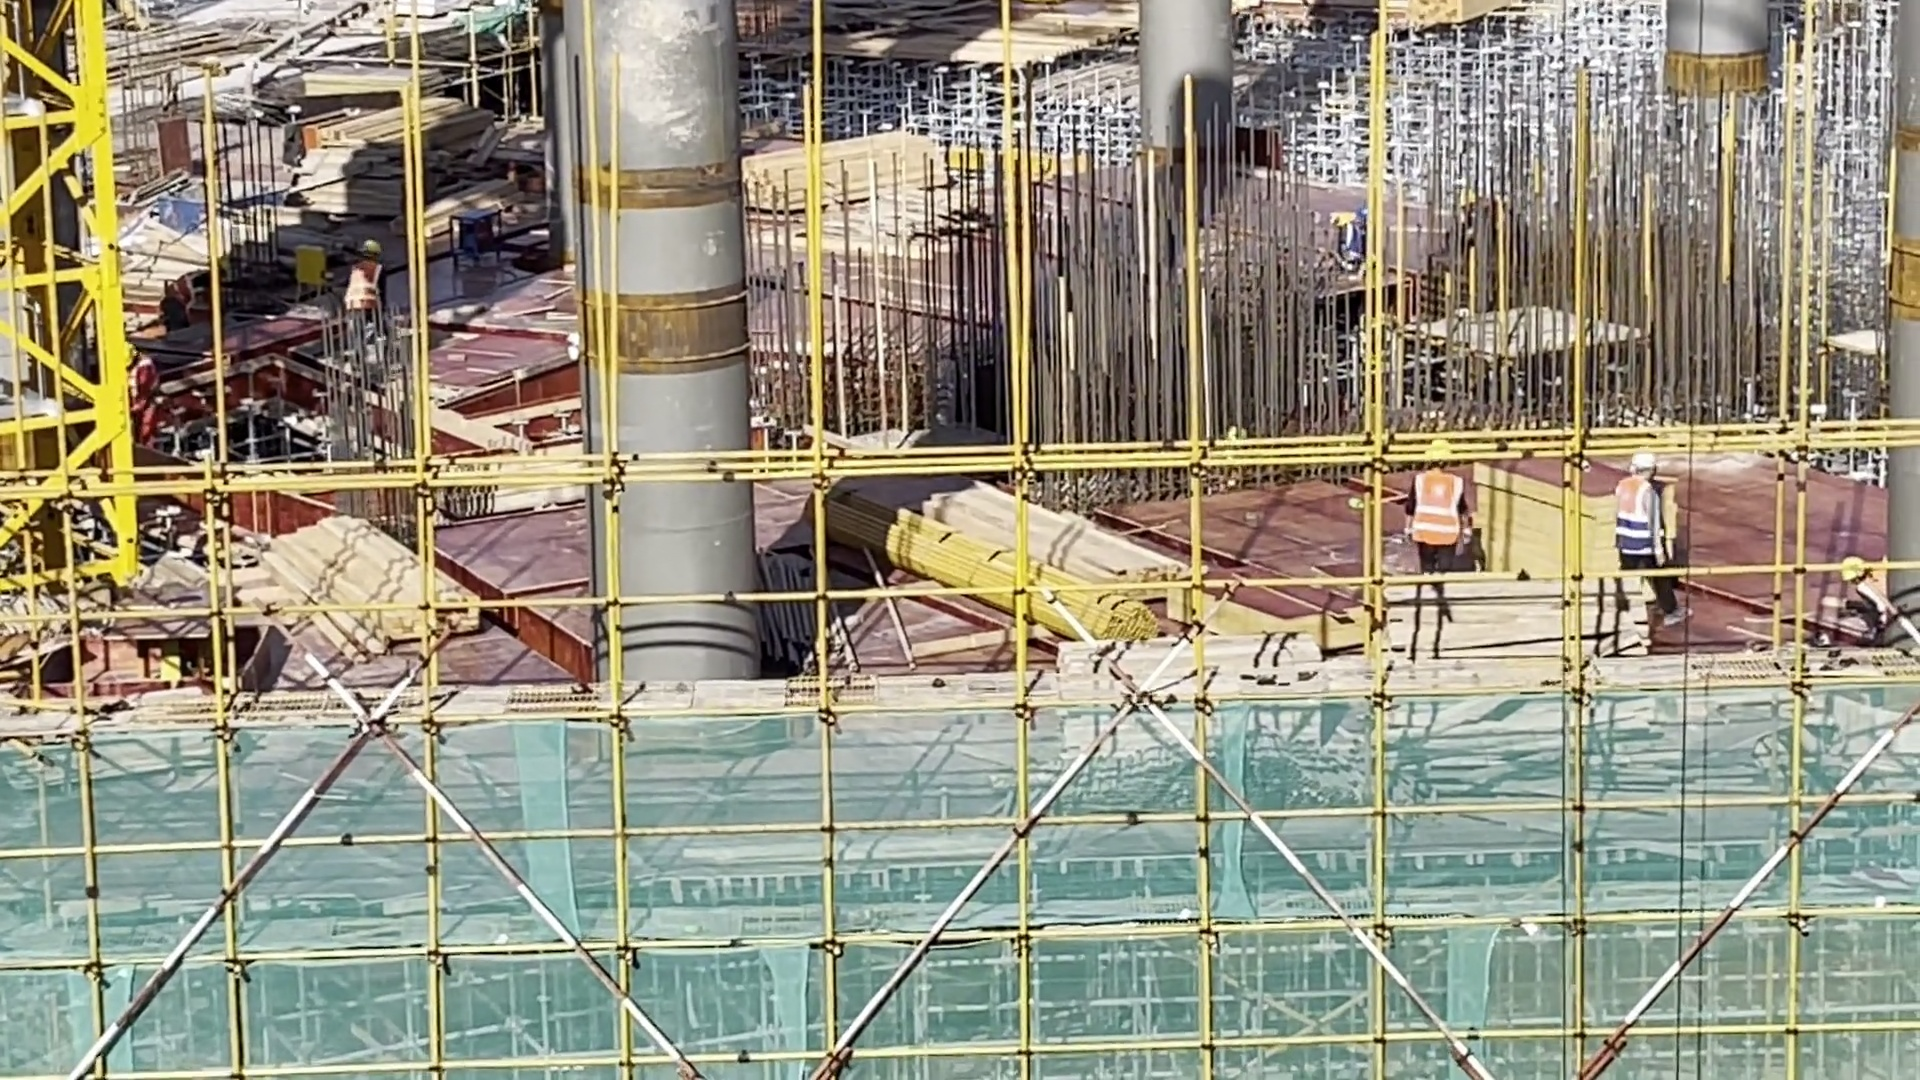board: (301, 103, 493, 215), (1483, 466, 1611, 587)
helmet: (1632, 444, 1660, 469), (1429, 437, 1456, 462)
person: (1608, 442, 1671, 624), (1404, 438, 1471, 573)
vest: (1613, 476, 1659, 558), (1416, 471, 1465, 540)
wood: (896, 477, 1173, 639), (263, 516, 474, 629), (1381, 580, 1669, 653), (736, 129, 939, 206), (1391, 1, 1483, 35)
